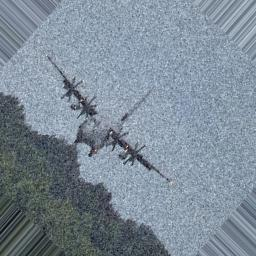Airplane: (47, 55, 172, 184)
